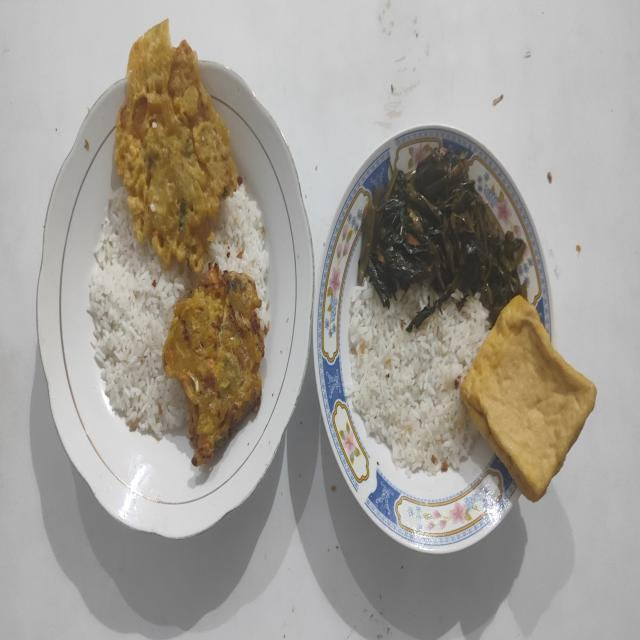nasi_putih: (87, 190, 199, 438), (350, 281, 490, 475), (206, 186, 270, 334)
tahu_goreng: (461, 295, 596, 502)
tumis_kangkung: (358, 150, 526, 332)
